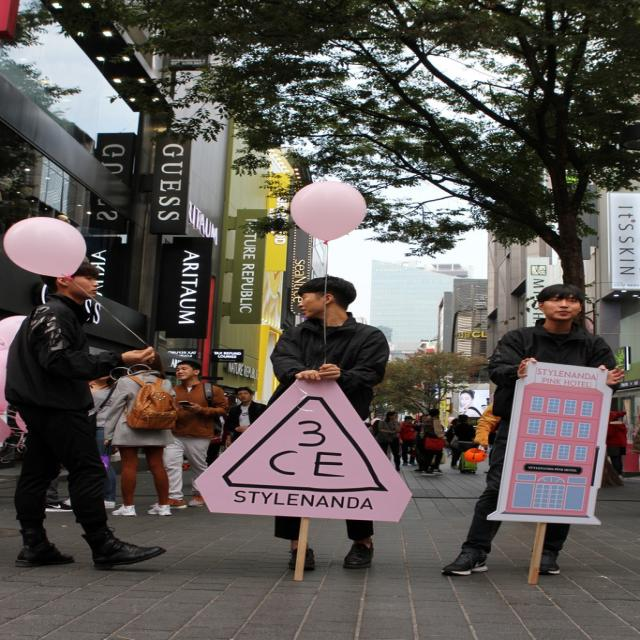body: (434, 280, 629, 578), (0, 253, 170, 572), (263, 274, 393, 573), (147, 358, 230, 511), (102, 346, 176, 517), (63, 373, 120, 511), (174, 413, 229, 473), (222, 386, 270, 448), (22, 462, 72, 517), (417, 407, 450, 477), (474, 398, 499, 473), (376, 410, 403, 472), (605, 410, 629, 479), (452, 413, 478, 471), (444, 383, 484, 415), (397, 415, 420, 467), (443, 417, 463, 469), (412, 414, 429, 472), (358, 414, 380, 434), (426, 448, 442, 473)
